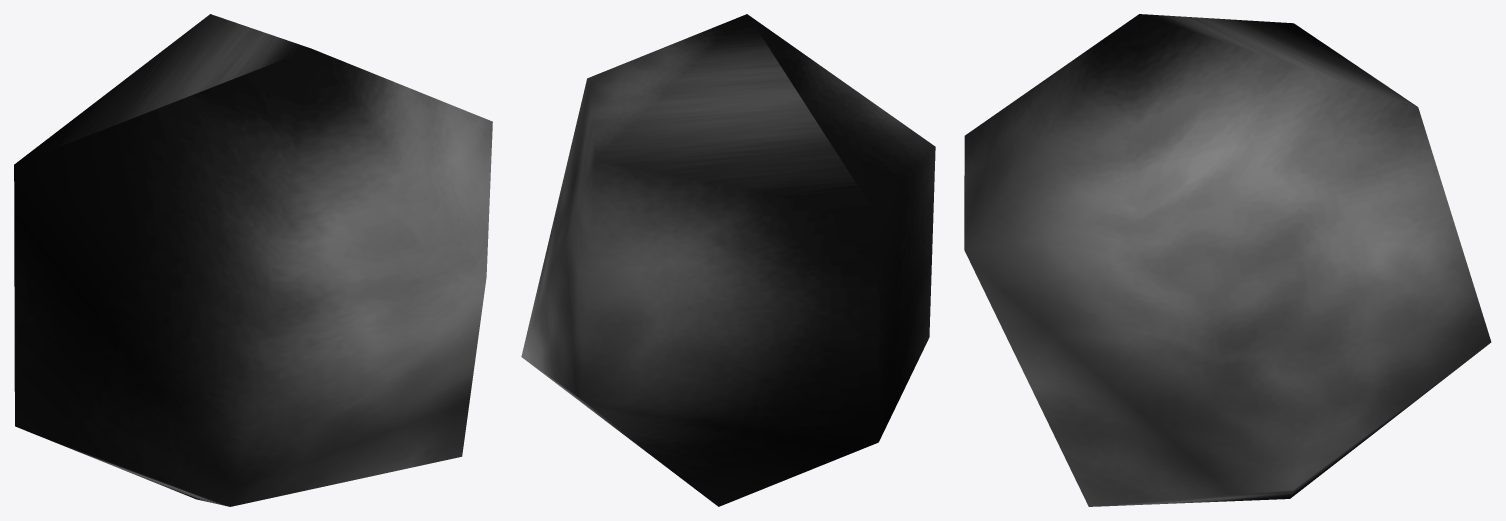
File: 0418_shikuai_M.glb
3 renders of one model, left to right at view 1: azimuth 30°, elevation 25°; view 2: azimuth 150°, elevation 25°; view 3: azimuth 270°, elevation 25°, orthographic. The views are drawn at different scales.
Bounding box in the file's own units: 1.88 × 2.2 × 2.08.
Materials: 1 (1 with a texture image).
